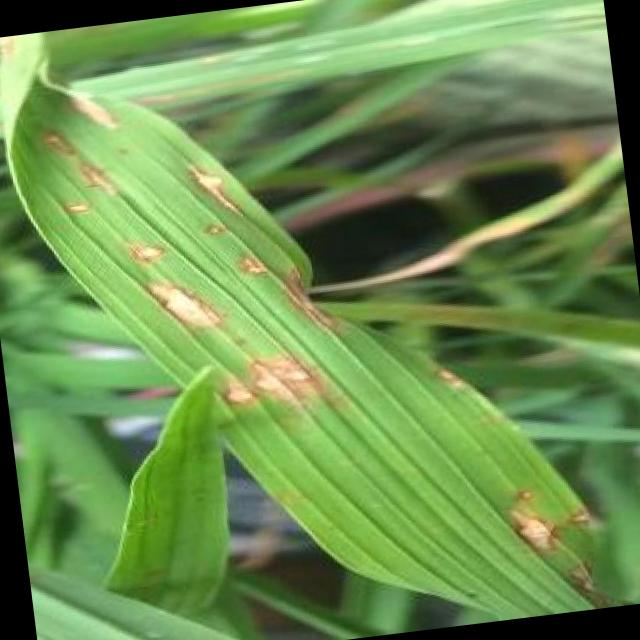Rice_Blast: (122, 258, 220, 343), (166, 141, 245, 226), (494, 476, 566, 558), (47, 74, 126, 134), (108, 216, 177, 283), (208, 226, 271, 292), (174, 200, 237, 256), (66, 141, 124, 200), (208, 363, 254, 428), (50, 181, 109, 228), (272, 344, 324, 396), (33, 111, 80, 159), (242, 353, 284, 400)
